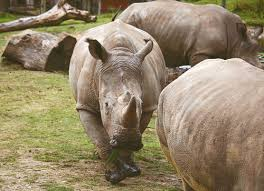Rhinoceros: (62, 18, 178, 186)
